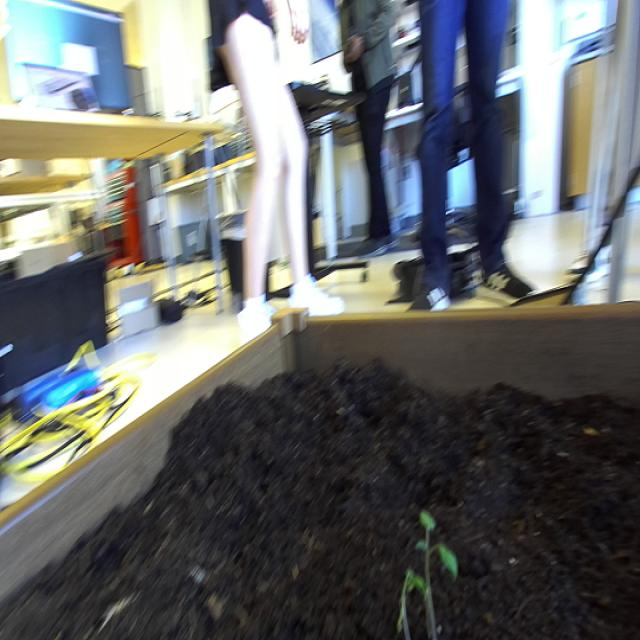Healthy: (387, 496, 467, 638)
